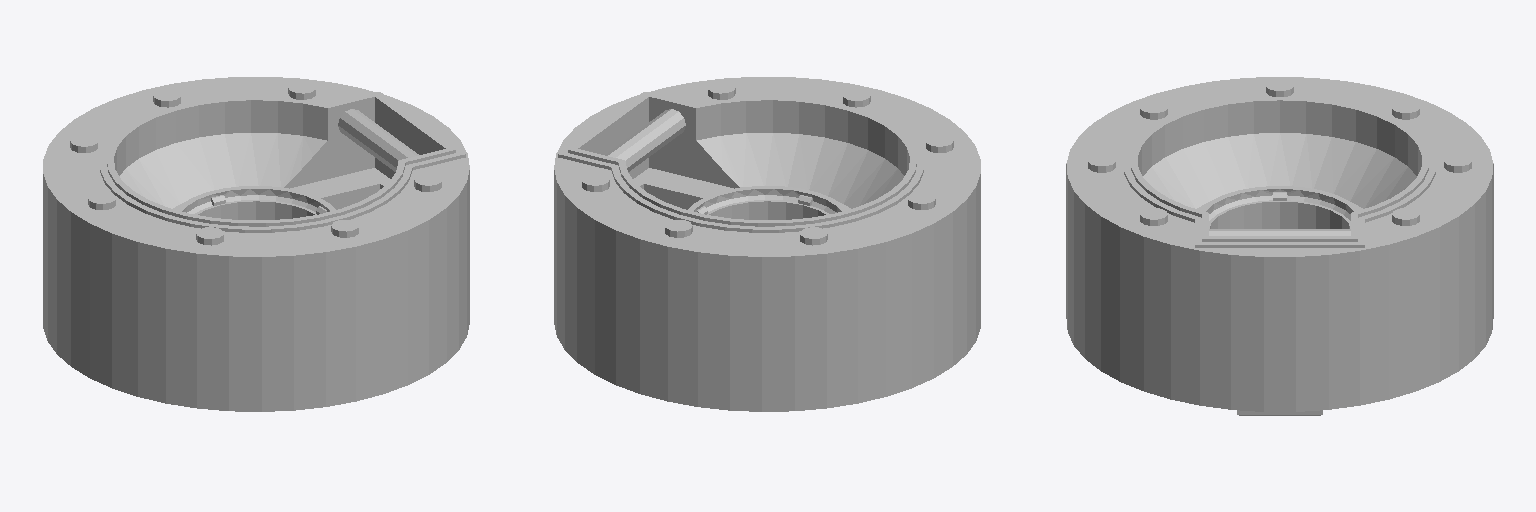
File: siloDoorBody3x3.obj
3 renders of one model, left to right at view 1: azimuth 30°, elevation 25°; view 2: azimuth 150°, elevation 25°; view 3: azimuth 270°, elevation 25°, orthographic.
Parts seen in each view (by area): view 1: Hatch_Body_v2; view 2: Hatch_Body_v2; view 3: Hatch_Body_v2.
Part boxes in pixels (left/top/right/bottom): Hatch_Body_v2: left=43, top=77, right=469, bottom=411; Hatch_Body_v2: left=554, top=77, right=980, bottom=411; Hatch_Body_v2: left=1066, top=77, right=1493, bottom=415.
Bounding box in the file's own units: 3 × 1.48 × 3.